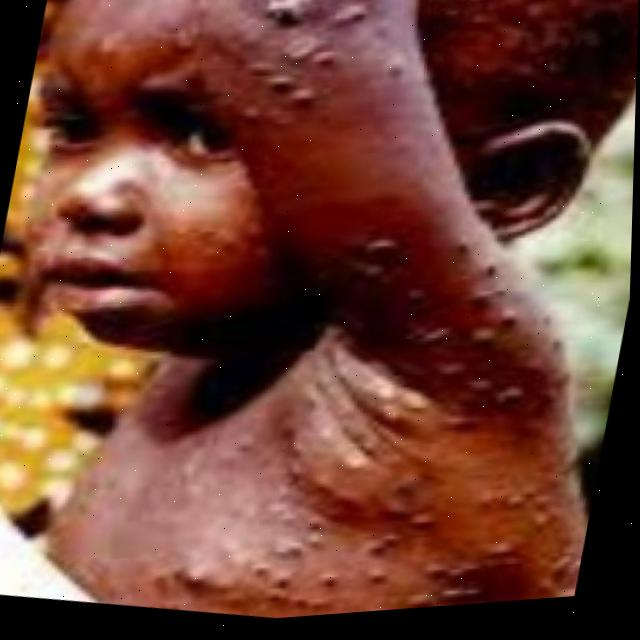Eczema: (56, 0, 640, 634)
